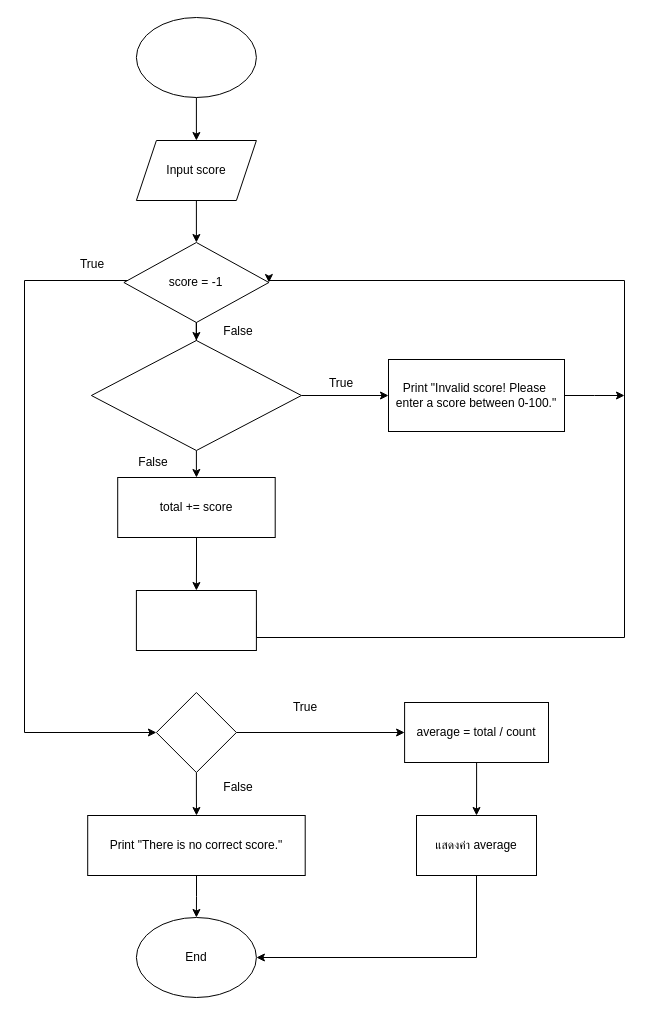
This 650x1015 diagram has some shape labels left out. Here are the shapes that lost their labels. From the top down, the centre of each, then its label:
point (195, 57): Start
point (195, 395): score < 0 or score > 100
point (195, 620): count++
point (195, 732): count > 0
